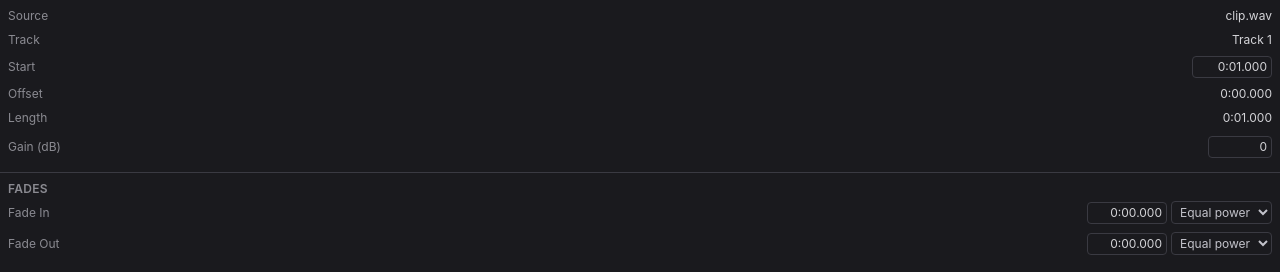
Test: PropertiesPanel (multitrack view) › the clip Start field › refuses a position before zero rather than pretending to place one there
Replace the text in the field named "clip start" with "-3": (1232, 67) left=1192, top=56, right=1272, bottom=78
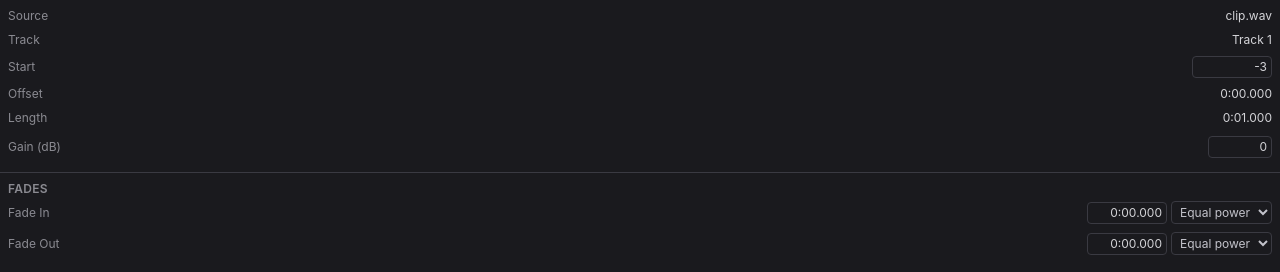
Leave the field named "clip start", box left=1192, top=56, right=1272, bottom=78
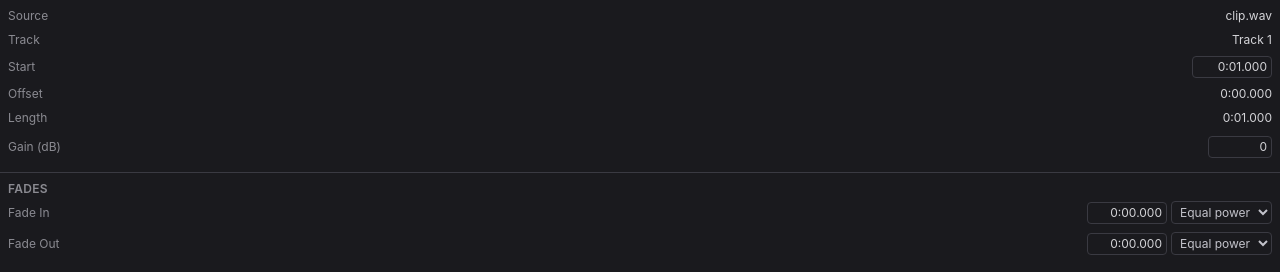
Check: the field named "clip start" holds "0:01.000", box left=1192, top=56, right=1272, bottom=78
